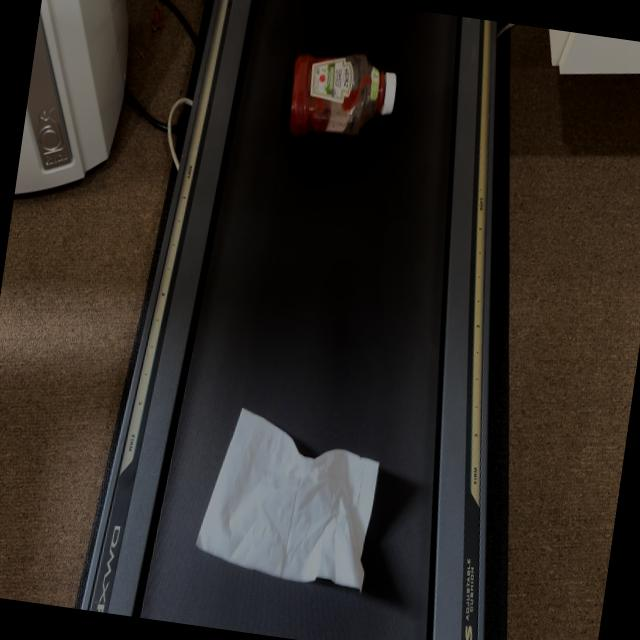Trash: (192, 402, 386, 595), (284, 50, 404, 133)
